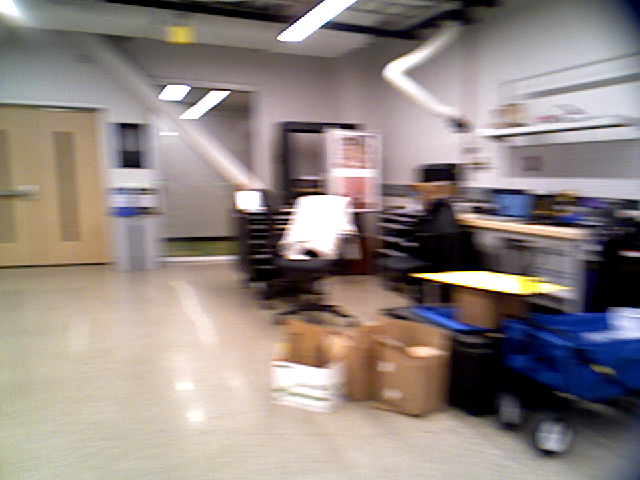painting1: (103, 122, 156, 172)
